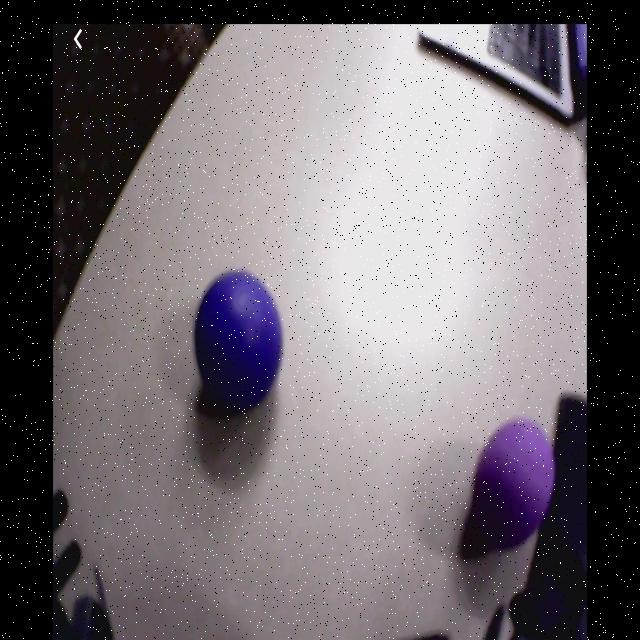ball: (194, 271, 283, 405), (476, 417, 554, 541)
